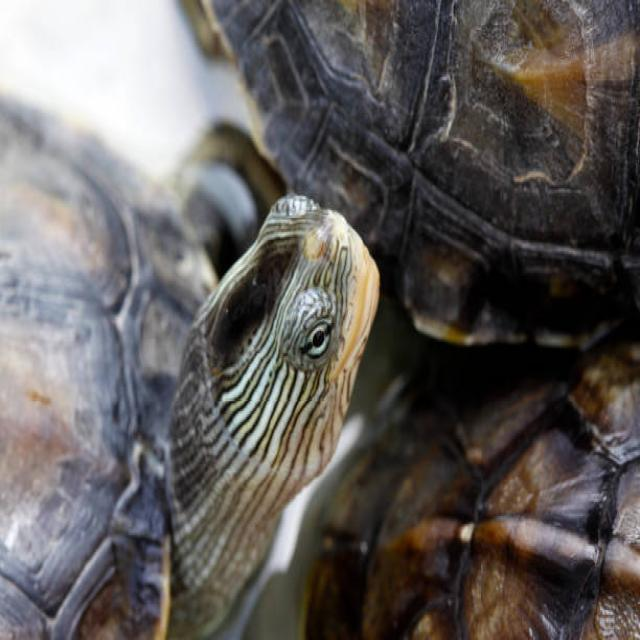terrapin: (175, 0, 639, 334), (302, 301, 640, 640), (2, 79, 202, 640), (177, 191, 386, 587)
